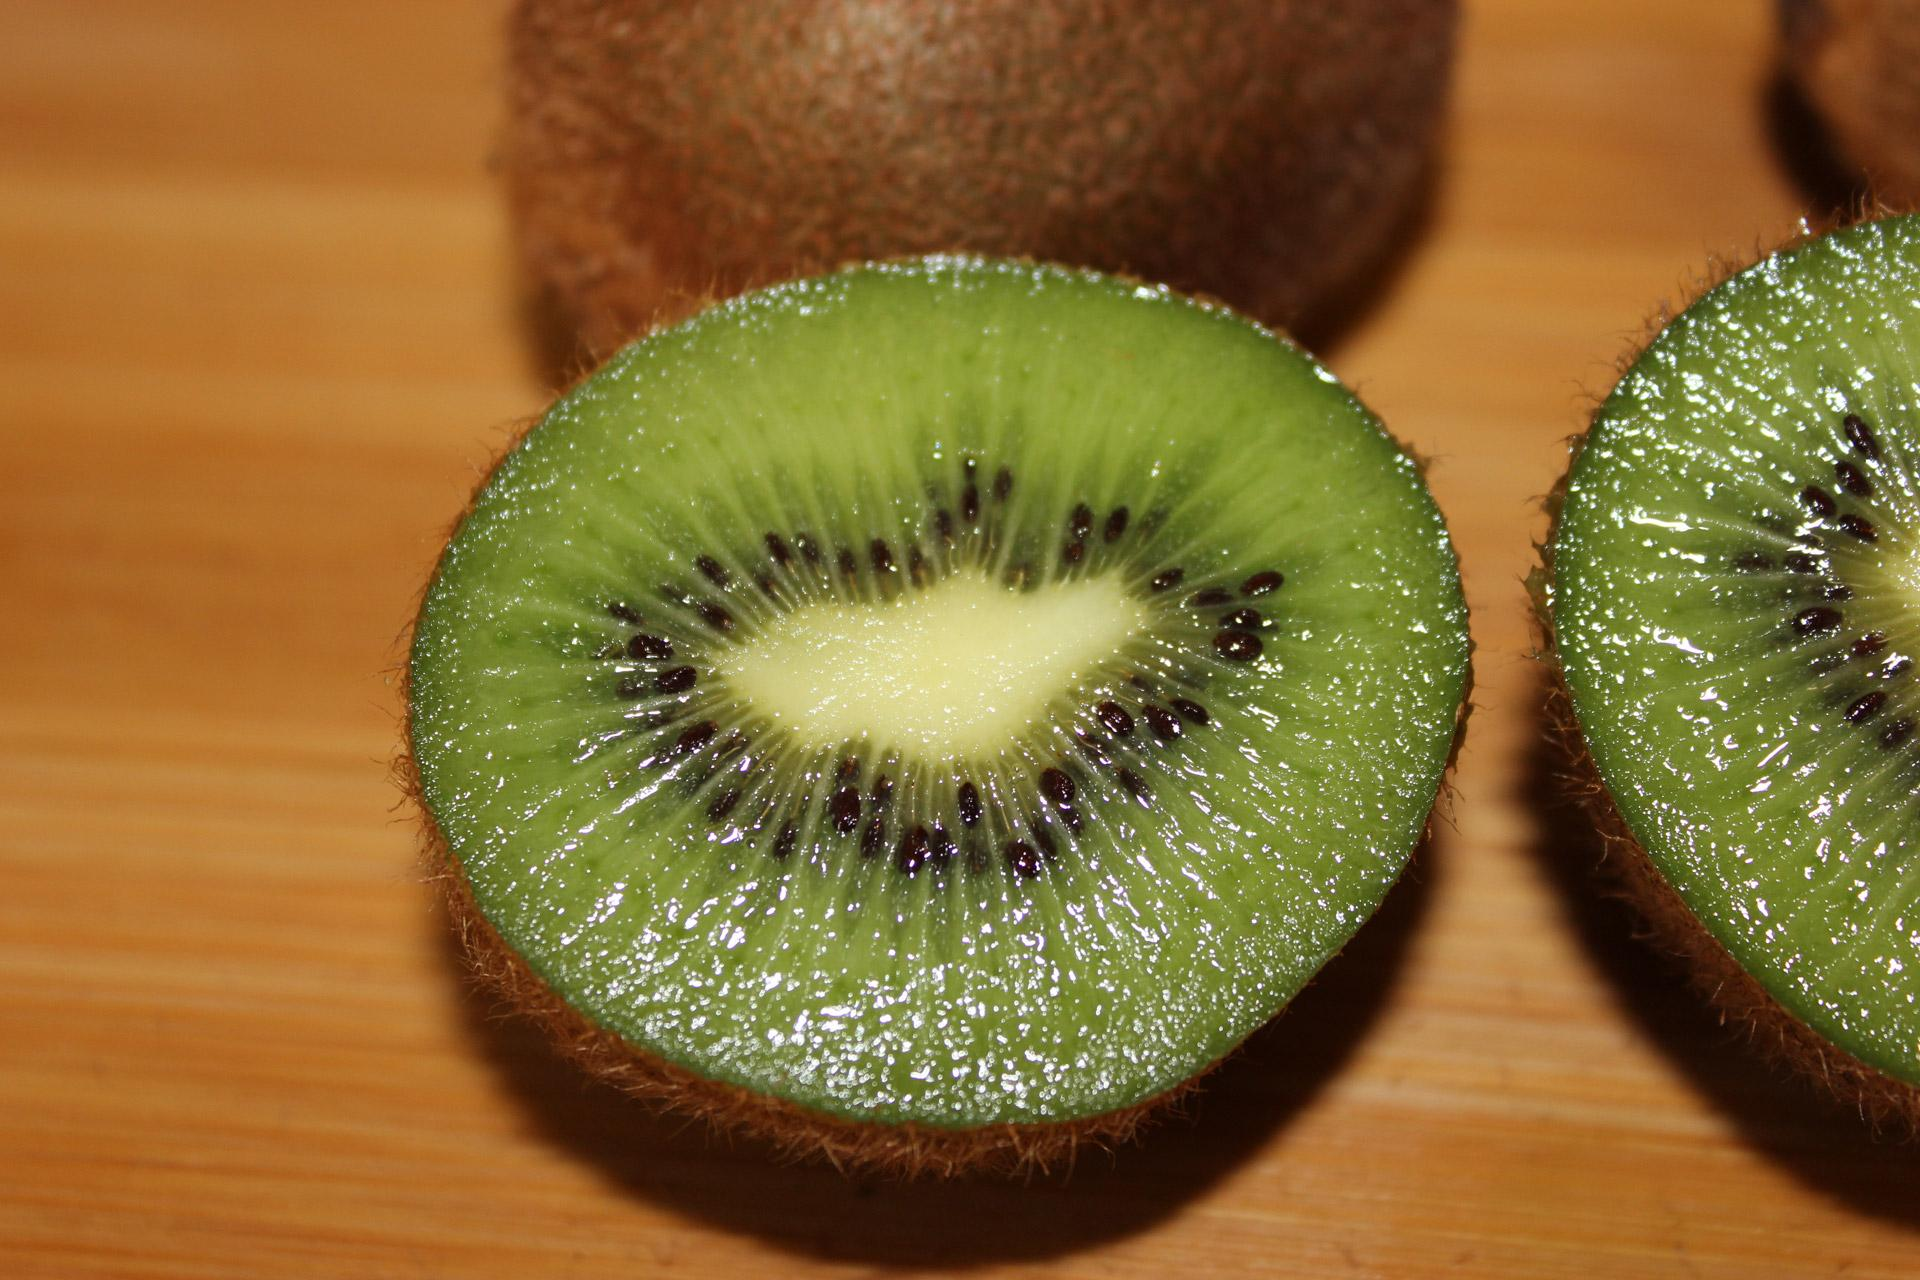kiwi: (360, 231, 1479, 1244), (1510, 209, 1920, 1184)
